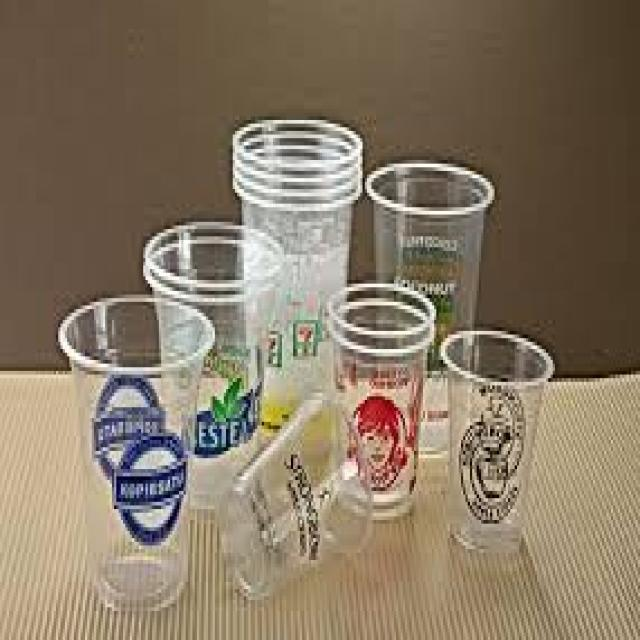cup: (53, 277, 223, 623), (440, 304, 555, 582), (320, 272, 441, 533)
